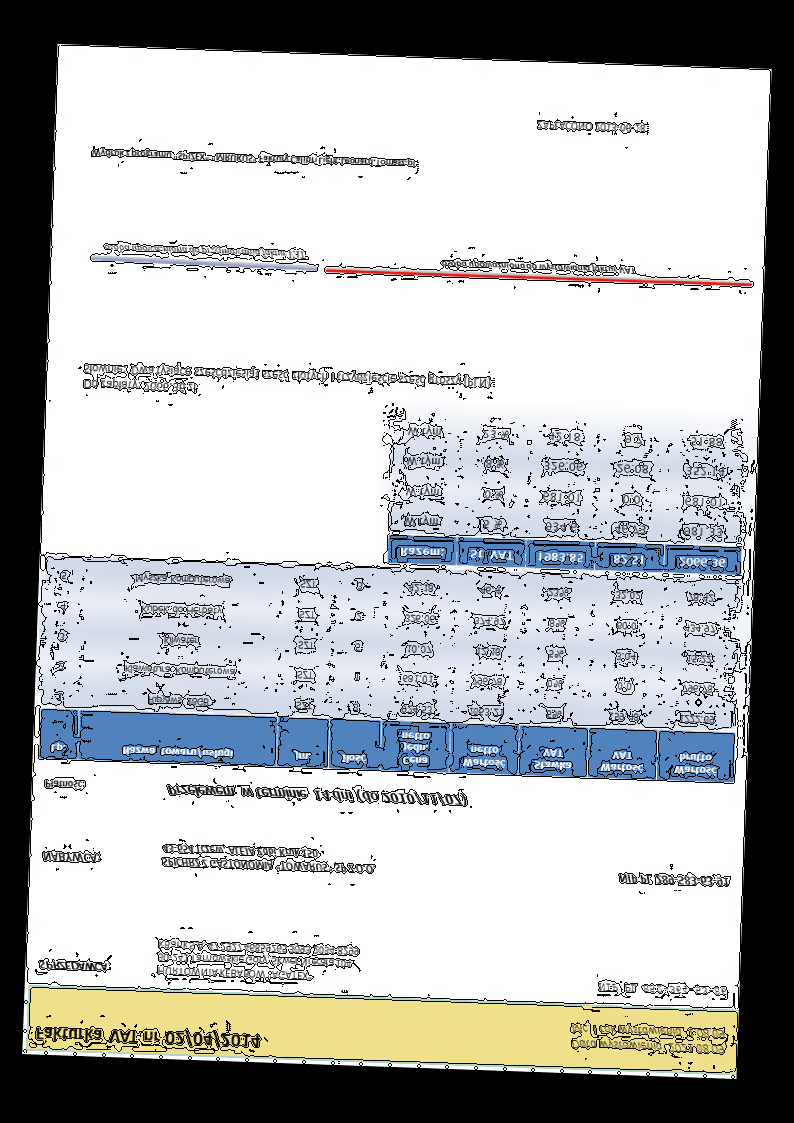Table: (37, 555, 741, 784), (386, 411, 747, 578)
TextBox: (81, 359, 492, 406), (155, 939, 361, 985), (164, 780, 469, 808), (90, 146, 418, 171), (159, 842, 377, 877), (33, 1023, 263, 1051), (569, 1021, 728, 1057), (440, 256, 637, 278), (102, 241, 308, 262), (594, 980, 729, 999), (617, 871, 732, 889), (534, 119, 649, 136), (37, 959, 112, 975), (39, 849, 103, 867), (41, 778, 87, 792)
